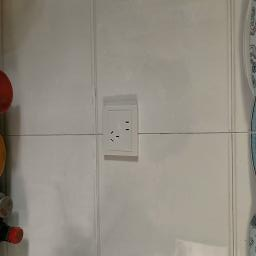outlet: (100, 103, 144, 166)
